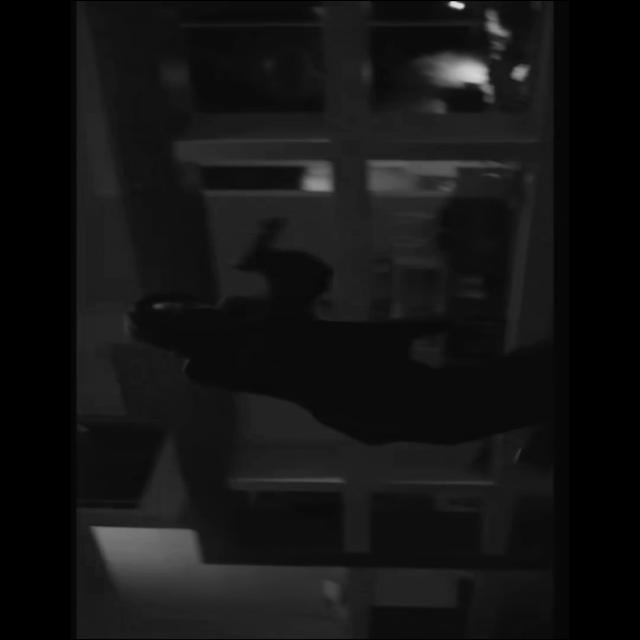weapons: (208, 203, 350, 280)
